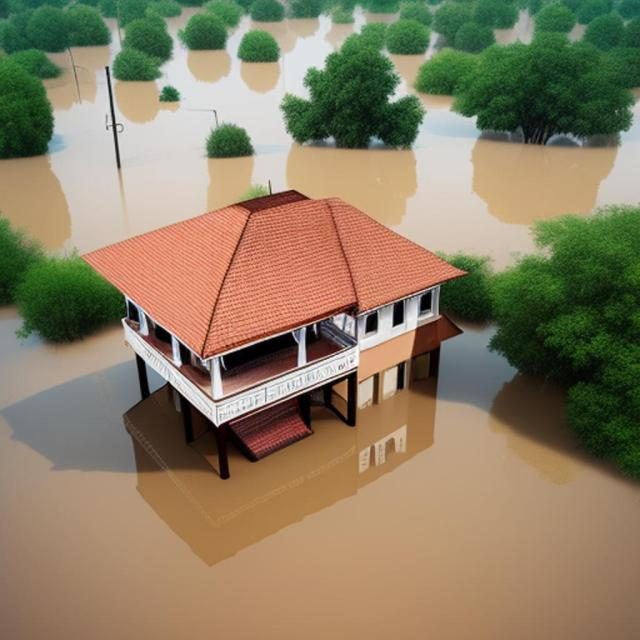flood: (0, 308, 640, 640), (0, 9, 640, 269), (391, 55, 429, 95), (498, 12, 533, 42), (151, 374, 162, 390), (573, 25, 583, 38)
house: (75, 184, 476, 486)
